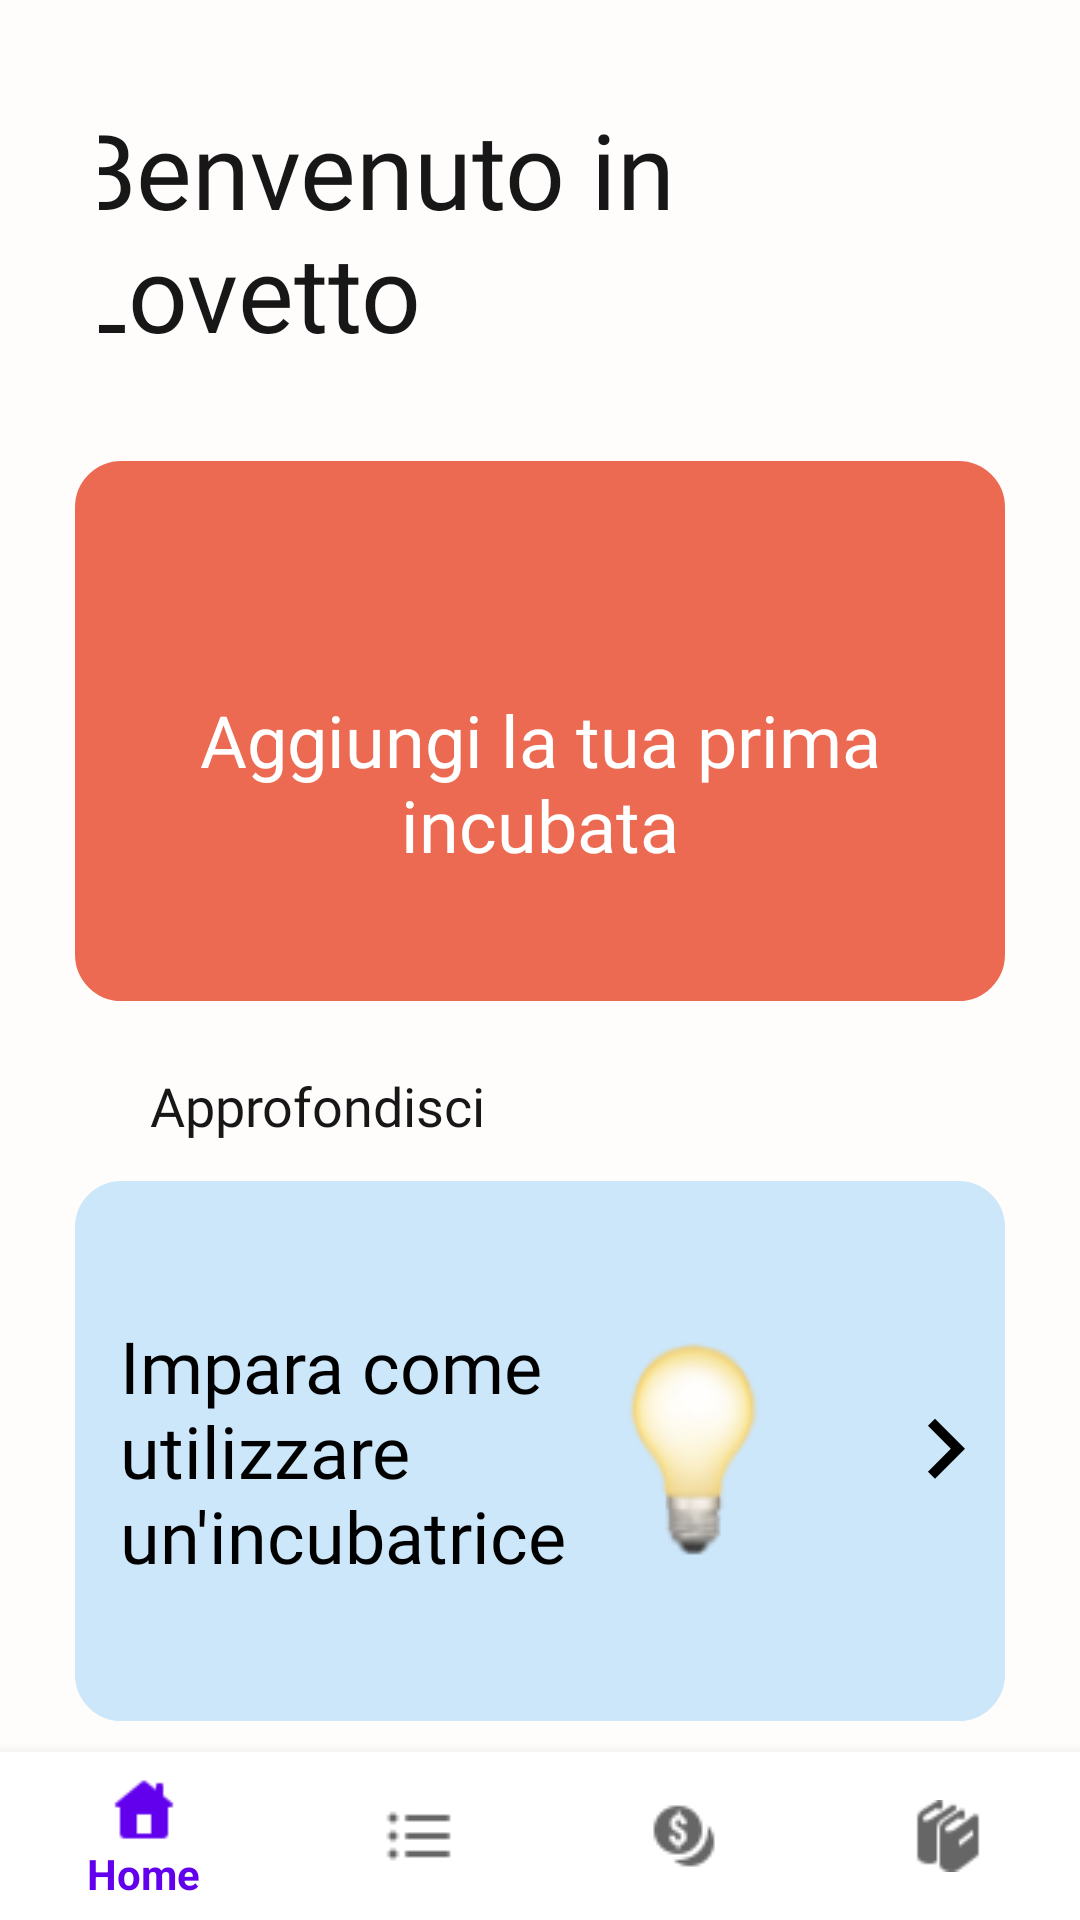

Locate icon controls on the screen. Image size 1080*1920, boxes as (x1, y1, x2, y2).
freccia destra: (928, 1419, 965, 1479)
lamp: (630, 1344, 757, 1555)
